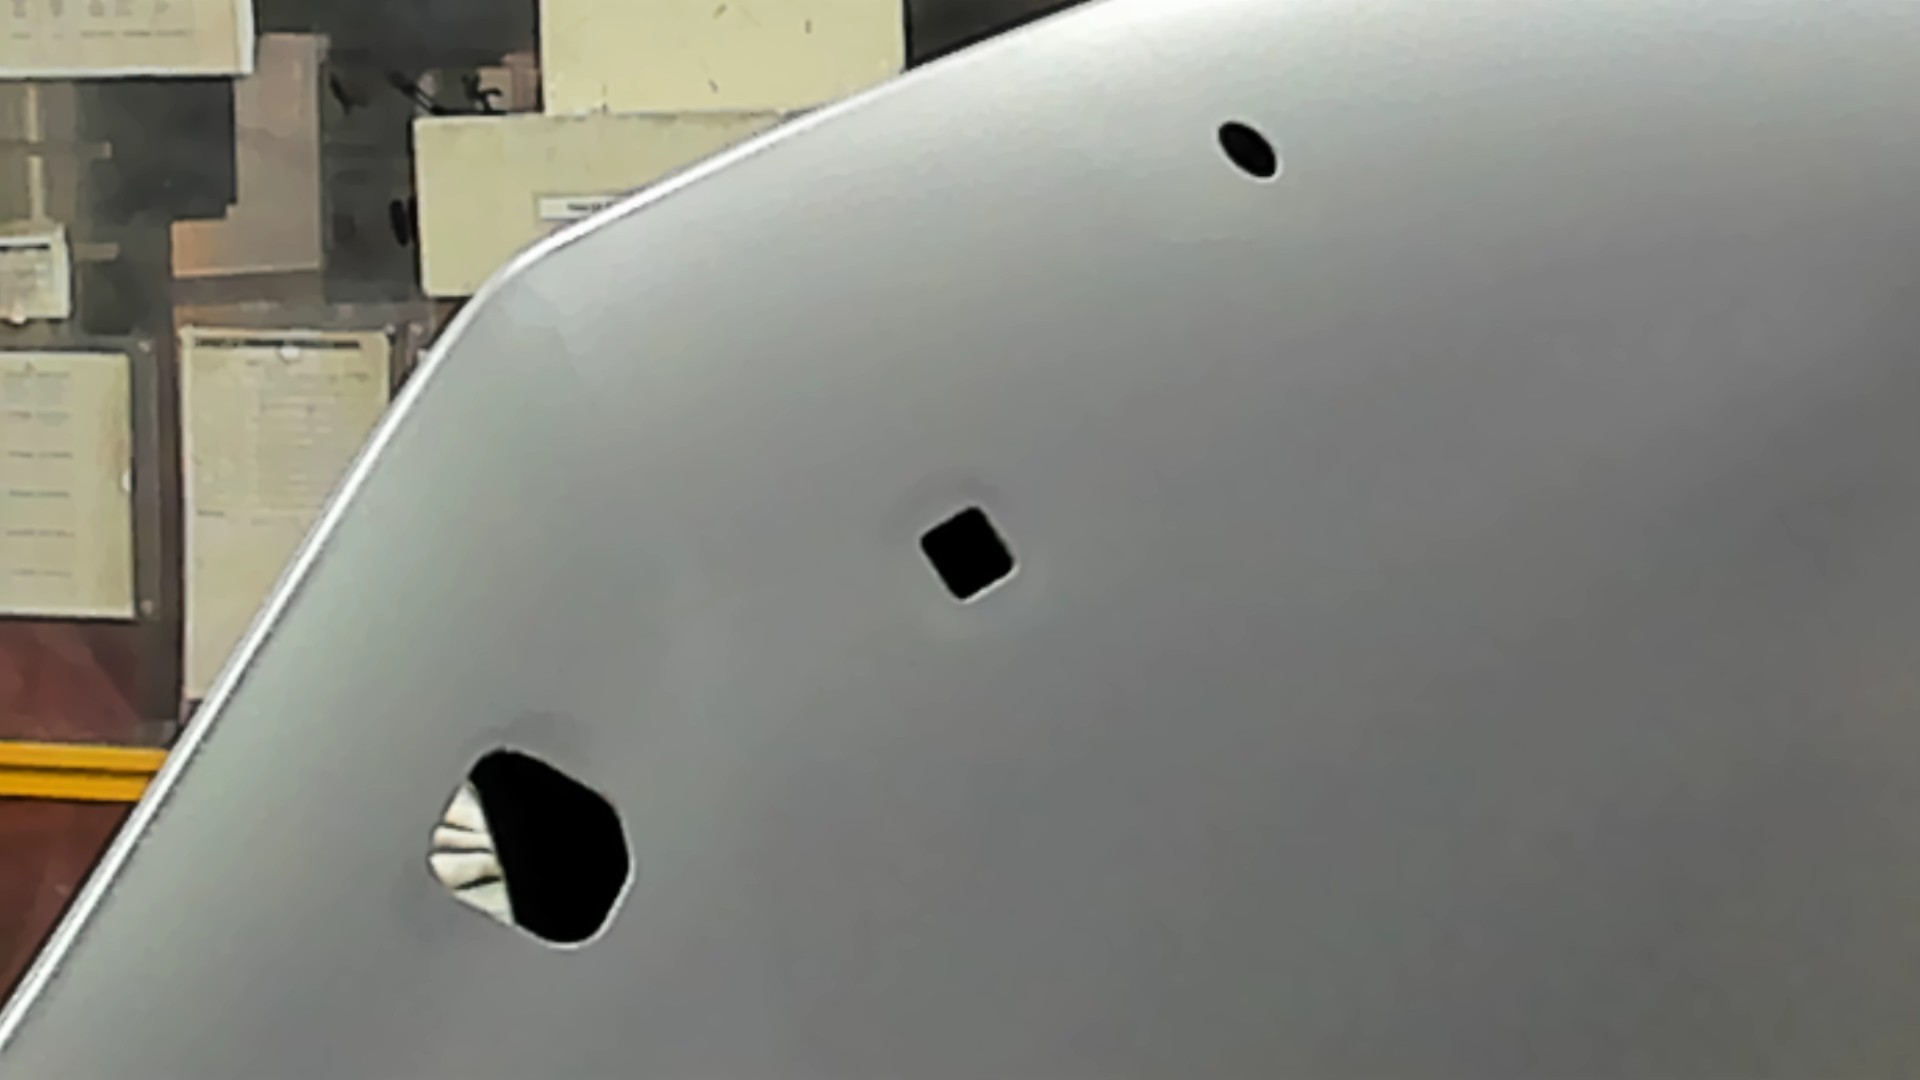chico: (1213, 115, 1286, 187)
grande: (429, 742, 637, 955)
mediano: (909, 501, 1025, 607)
